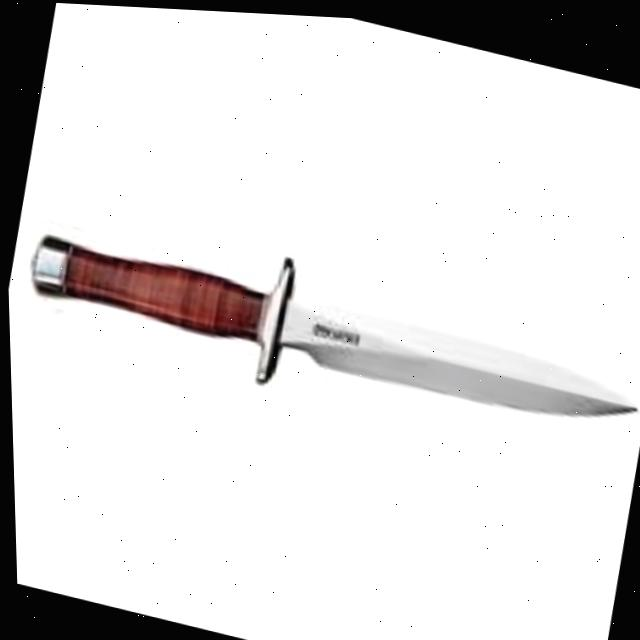Knife: (15, 193, 640, 466)
